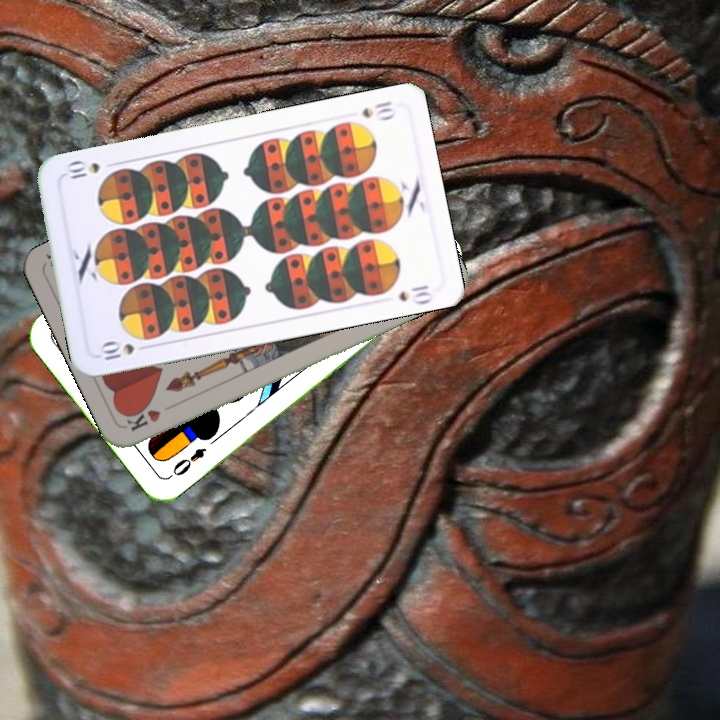EO: (165, 443, 209, 481)
HK: (123, 398, 180, 434)
S10: (357, 97, 397, 123), (96, 338, 137, 363)
